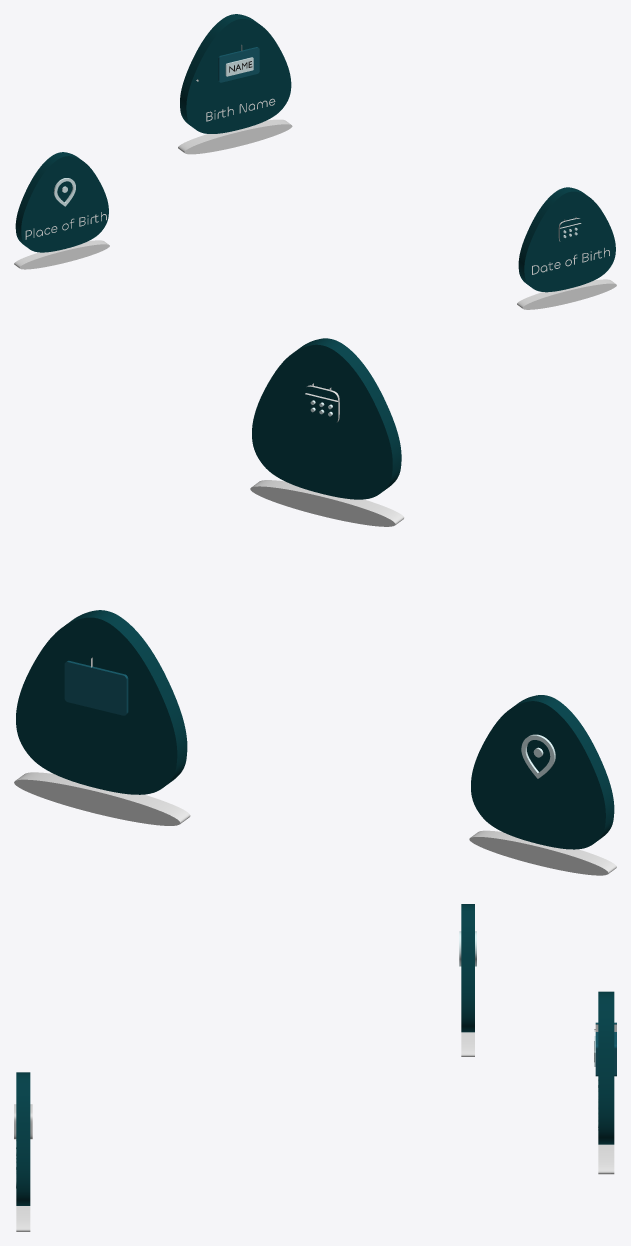
The model's file is 3-Shapes.glb.
3 views of the same model, one above another, from view 1: azimuth 30°, elevation 25°; view 2: azimuth 150°, elevation 25°; view 3: azimuth 270°, elevation 25° (orthographic). The views are drawn at different scales.
Visible parts, largest first — view 1: Curve.707, Curve.718, Curve.446, Curve.708, Curve.719, Curve.447, Curve.709; view 2: Curve.707, Curve.718, Curve.446, Curve.708, Curve.719, Curve.447, Curve.709; view 3: Curve.707, Curve.718, Curve.446, Curve.708.
Boxes of the visible parts, <box> form: Curve.707: <box>180,14,291,133</box>; Curve.718: <box>518,187,615,292</box>; Curve.446: <box>15,152,108,252</box>; Curve.708: <box>178,119,292,154</box>; Curve.719: <box>517,279,616,309</box>; Curve.447: <box>14,240,109,269</box>; Curve.709: <box>218,47,259,82</box>; Curve.707: <box>16,610,187,794</box>; Curve.718: <box>252,338,401,499</box>; Curve.446: <box>471,695,614,849</box>; Curve.708: <box>14,772,190,825</box>; Curve.719: <box>250,480,404,526</box>; Curve.447: <box>469,830,616,875</box>; Curve.709: <box>64,660,128,715</box>; Curve.707: <box>598,991,614,1144</box>; Curve.718: <box>16,1072,30,1205</box>; Curve.446: <box>461,904,474,1032</box>; Curve.708: <box>598,1144,614,1174</box>.
Bounding box in the file's own units: 3.41 × 1.15 × 3.52.
